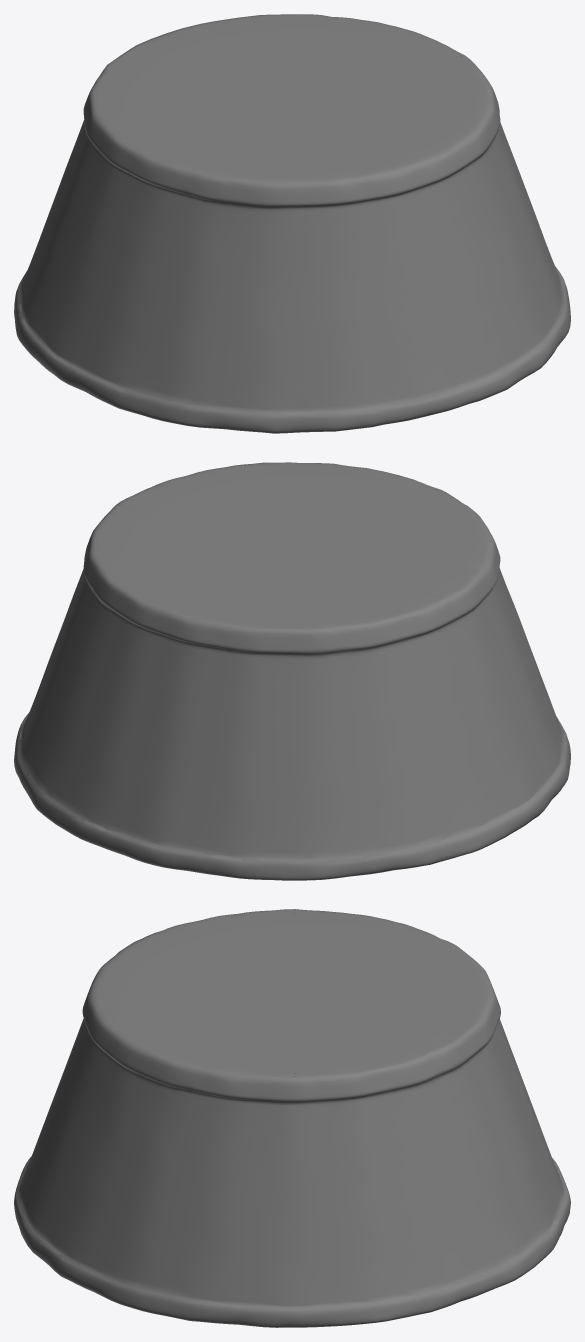
The model's file is Circus Platform.fbx.
3 views of the same model, one above another, from view 1: azimuth 30°, elevation 25°; view 2: azimuth 150°, elevation 25°; view 3: azimuth 270°, elevation 25° (orthographic).
Visible parts, largest first — view 1: Circus Platform; view 2: Circus Platform; view 3: Circus Platform.
Part boxes in pixels (box(x1,y1,x2,y2)): Circus Platform: box(14, 14, 570, 433); Circus Platform: box(14, 462, 570, 880); Circus Platform: box(14, 909, 570, 1327).
Bounding box in the file's own units: 1.99 × 0.8717 × 1.99.
1 material, 1 textured.
